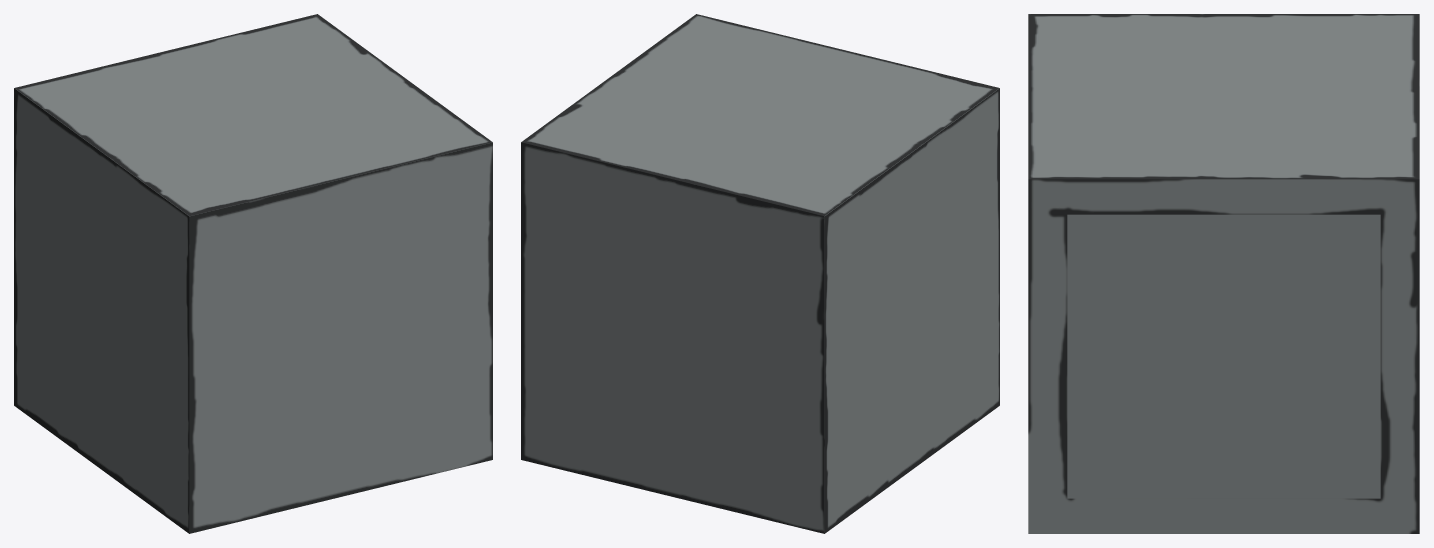
Rendered from Safe.glb.
The picture shows the model from 3 angles, left to right: view 1: azimuth 30°, elevation 25°; view 2: azimuth 150°, elevation 25°; view 3: azimuth 270°, elevation 25°; orthographic projection. The views are drawn at different scales.
Visible parts, largest first — view 1: Safe; view 2: Safe; view 3: Safe, Safe Door.
Boxes of the visible parts, bbox=[...] form: Safe: bbox=[14, 14, 492, 533]; Safe: bbox=[521, 14, 999, 533]; Safe: bbox=[1028, 14, 1419, 533]; Safe Door: bbox=[1067, 214, 1380, 498].
Size of the model in its own units: 0.4396 by 0.4396 by 0.4396.
1 material, 1 textured.
